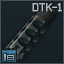AK Zenit DTK-1 7.62x39 & 5.45x39 muzzle brake & compensator: (0, 0, 64, 64)
